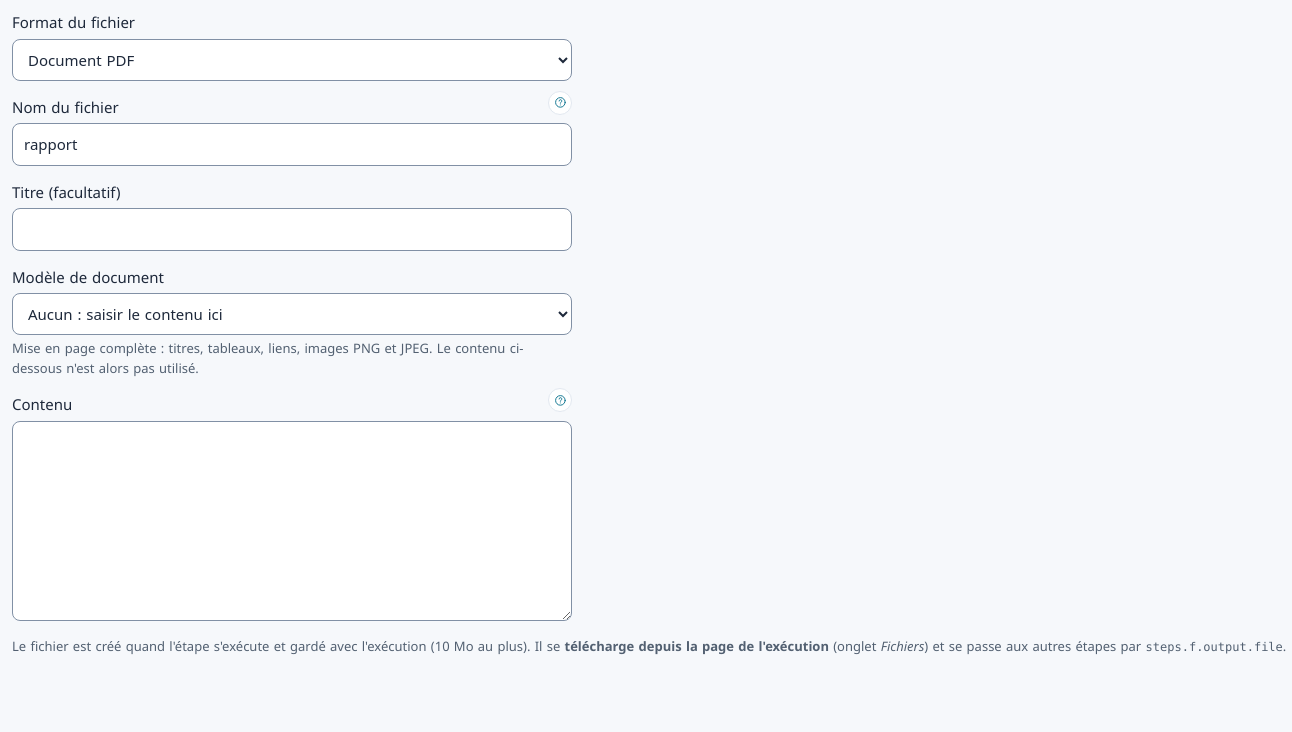
Scenario: Créer un fichier › propose les modèles de document du workflow et n'affiche plus le contenu quand l'un est choisi
The width and height of the screenshot is (1292, 732).
Expected: the text box labelled "Contenu" is shown, [12,420,572,620]
Select "Rapport mensuel" in the dropdown labelled "Modèle de document" at point(292, 314), box [12,293,572,335]
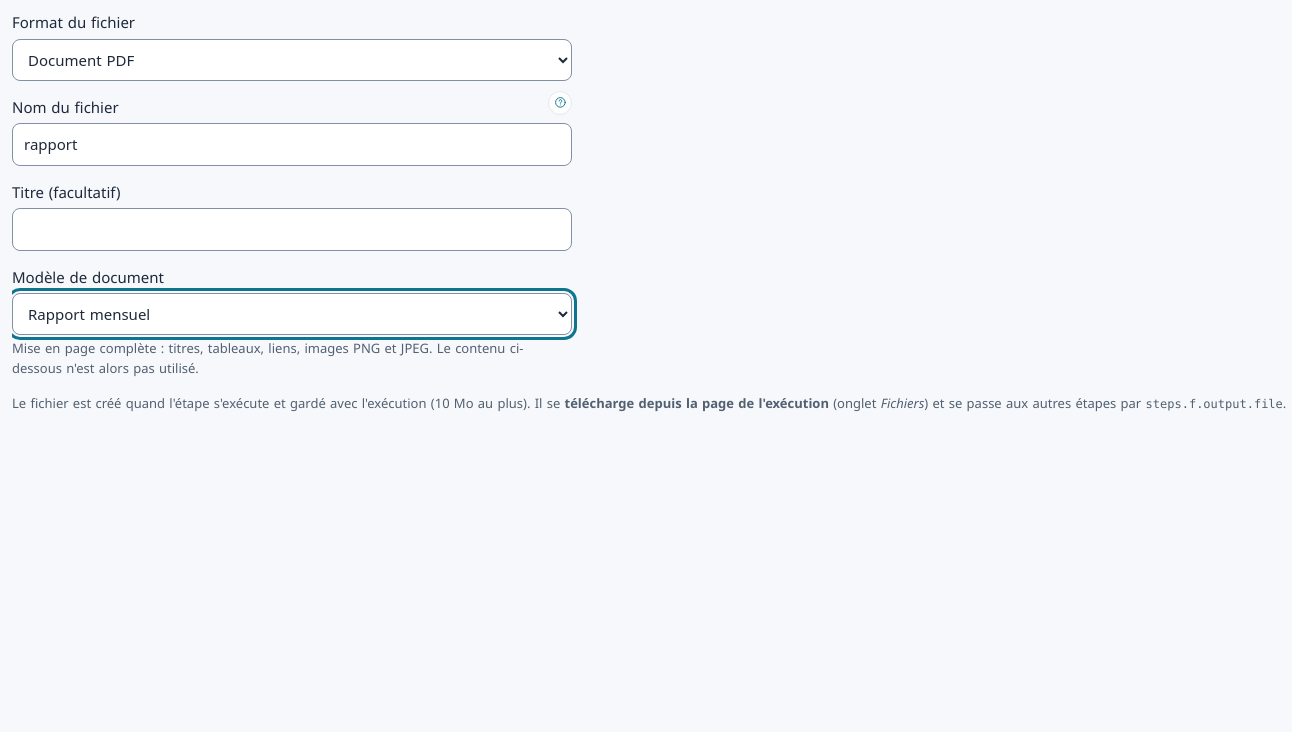
Select "Aucun : saisir le contenu ici" in the dropdown labelled "Modèle de document" at point(292, 314), box [12,293,572,335]
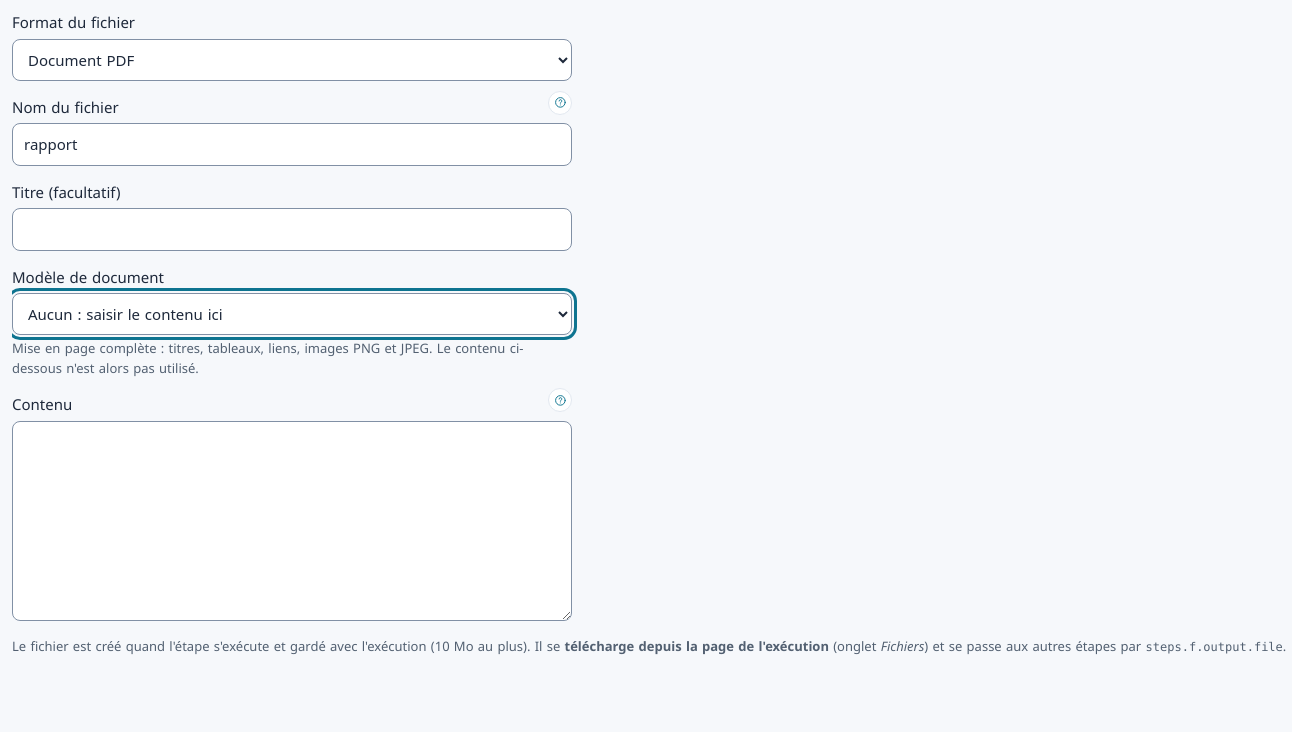
Result: the text box labelled "Contenu" is shown at [12,420,572,620]
